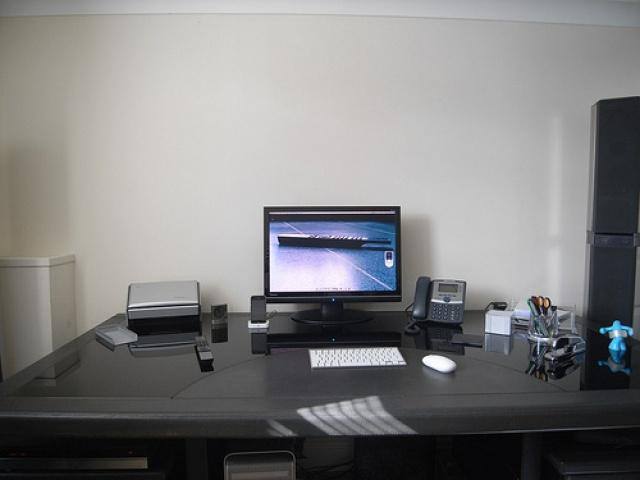AIO PC-Monitor-TV: (259, 203, 403, 324)
